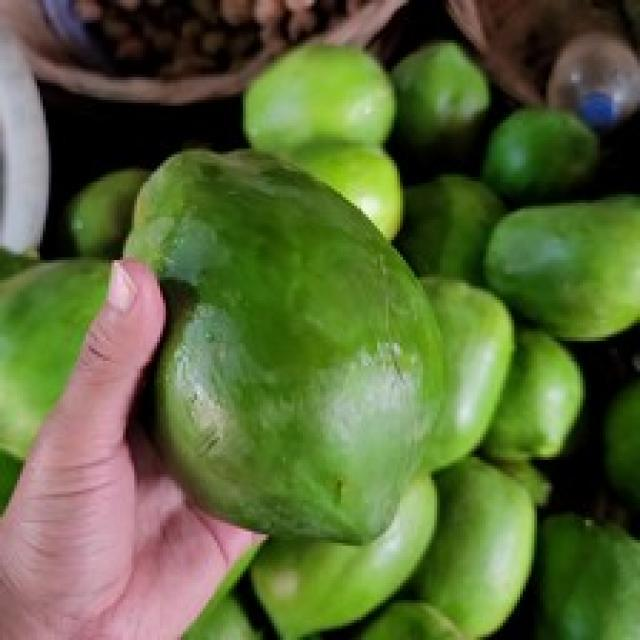Pepaya unrippen: (116, 126, 444, 561)
